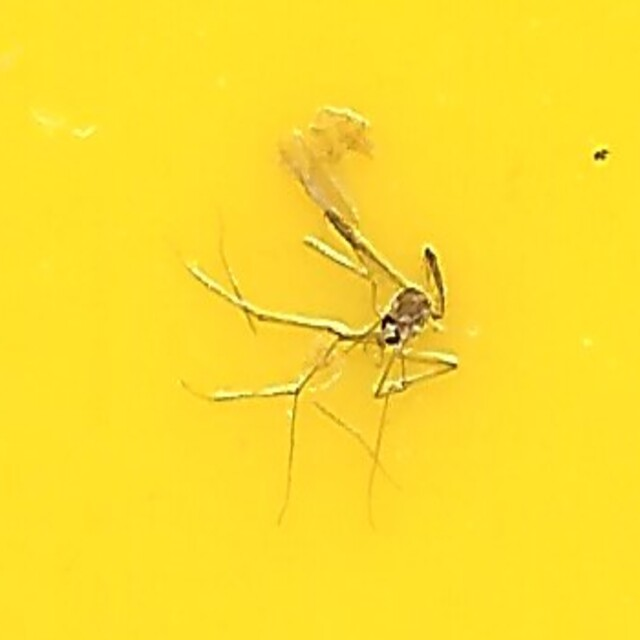Nematocera: (183, 223, 457, 417)
